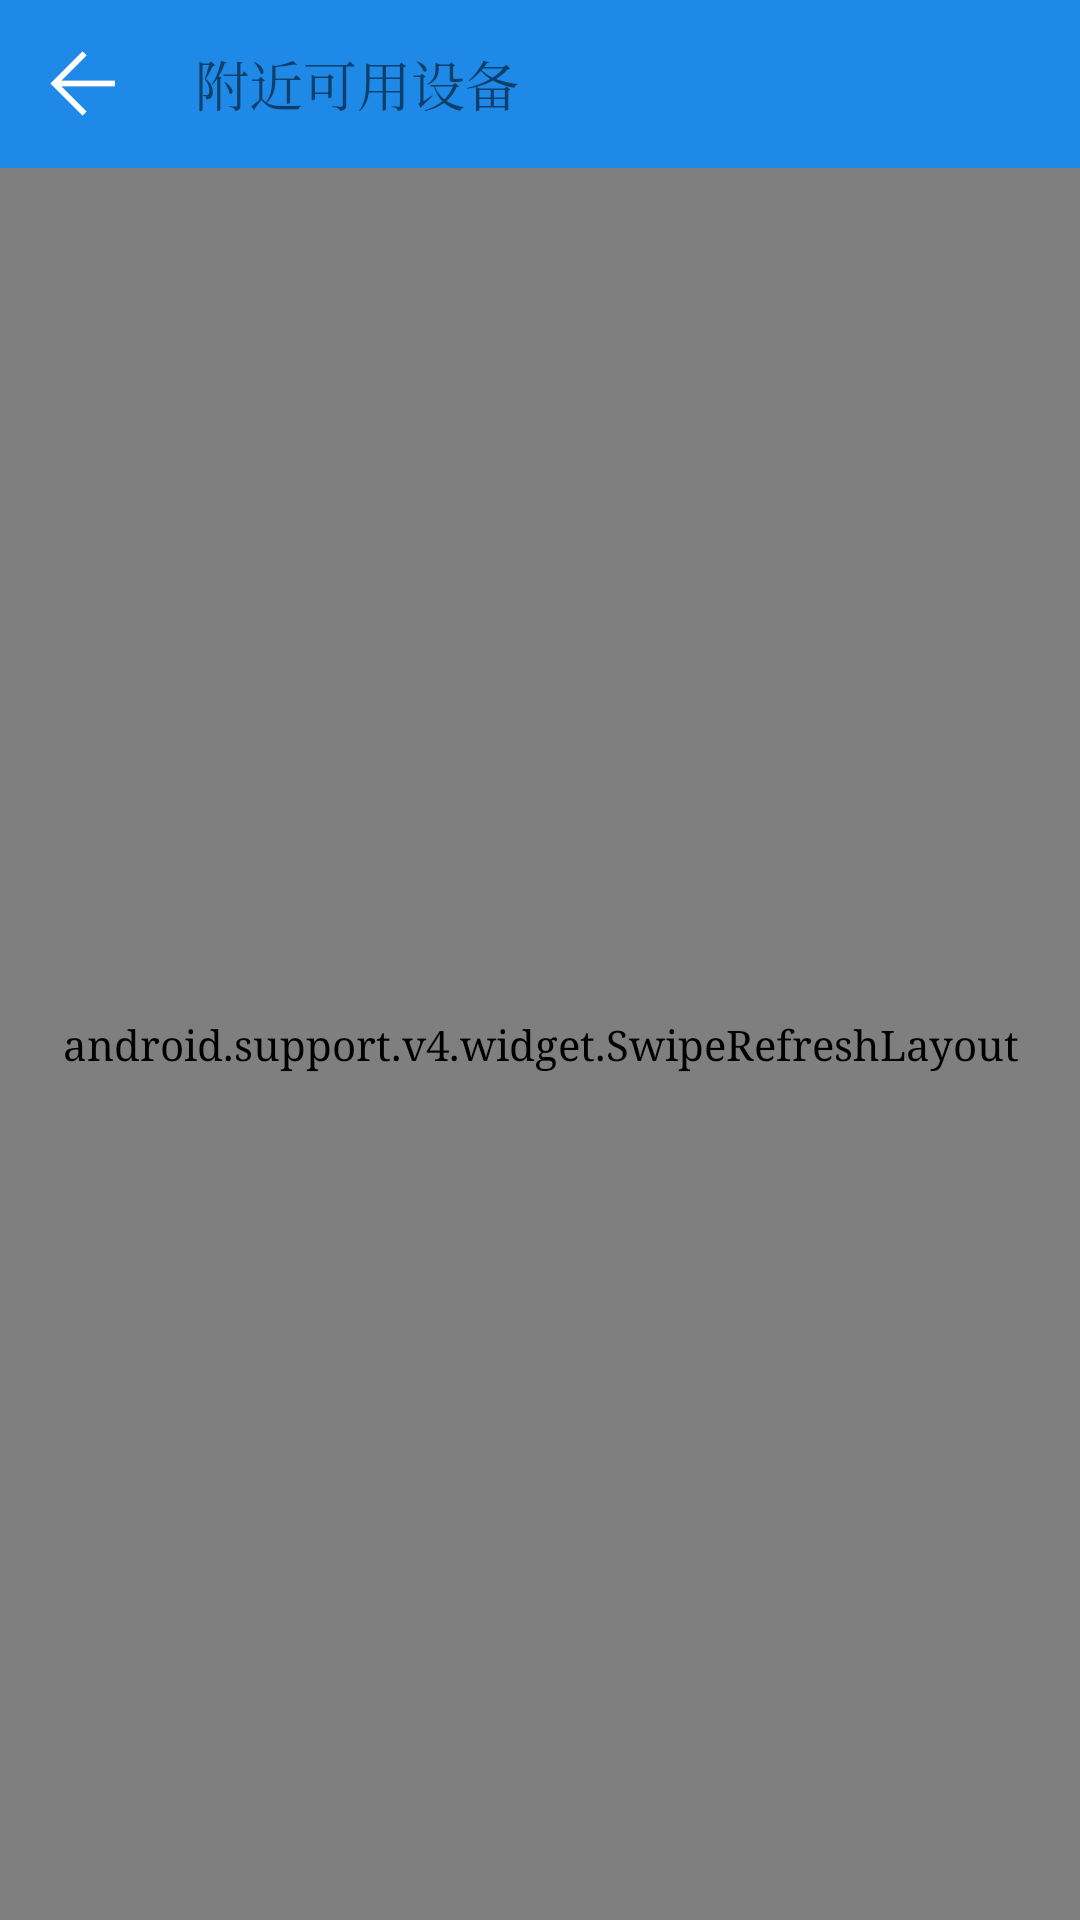

Where icons sit on this 1080px×1920px app screen, as (x1, y1, x2, y2):
back: (50, 51, 115, 116)
